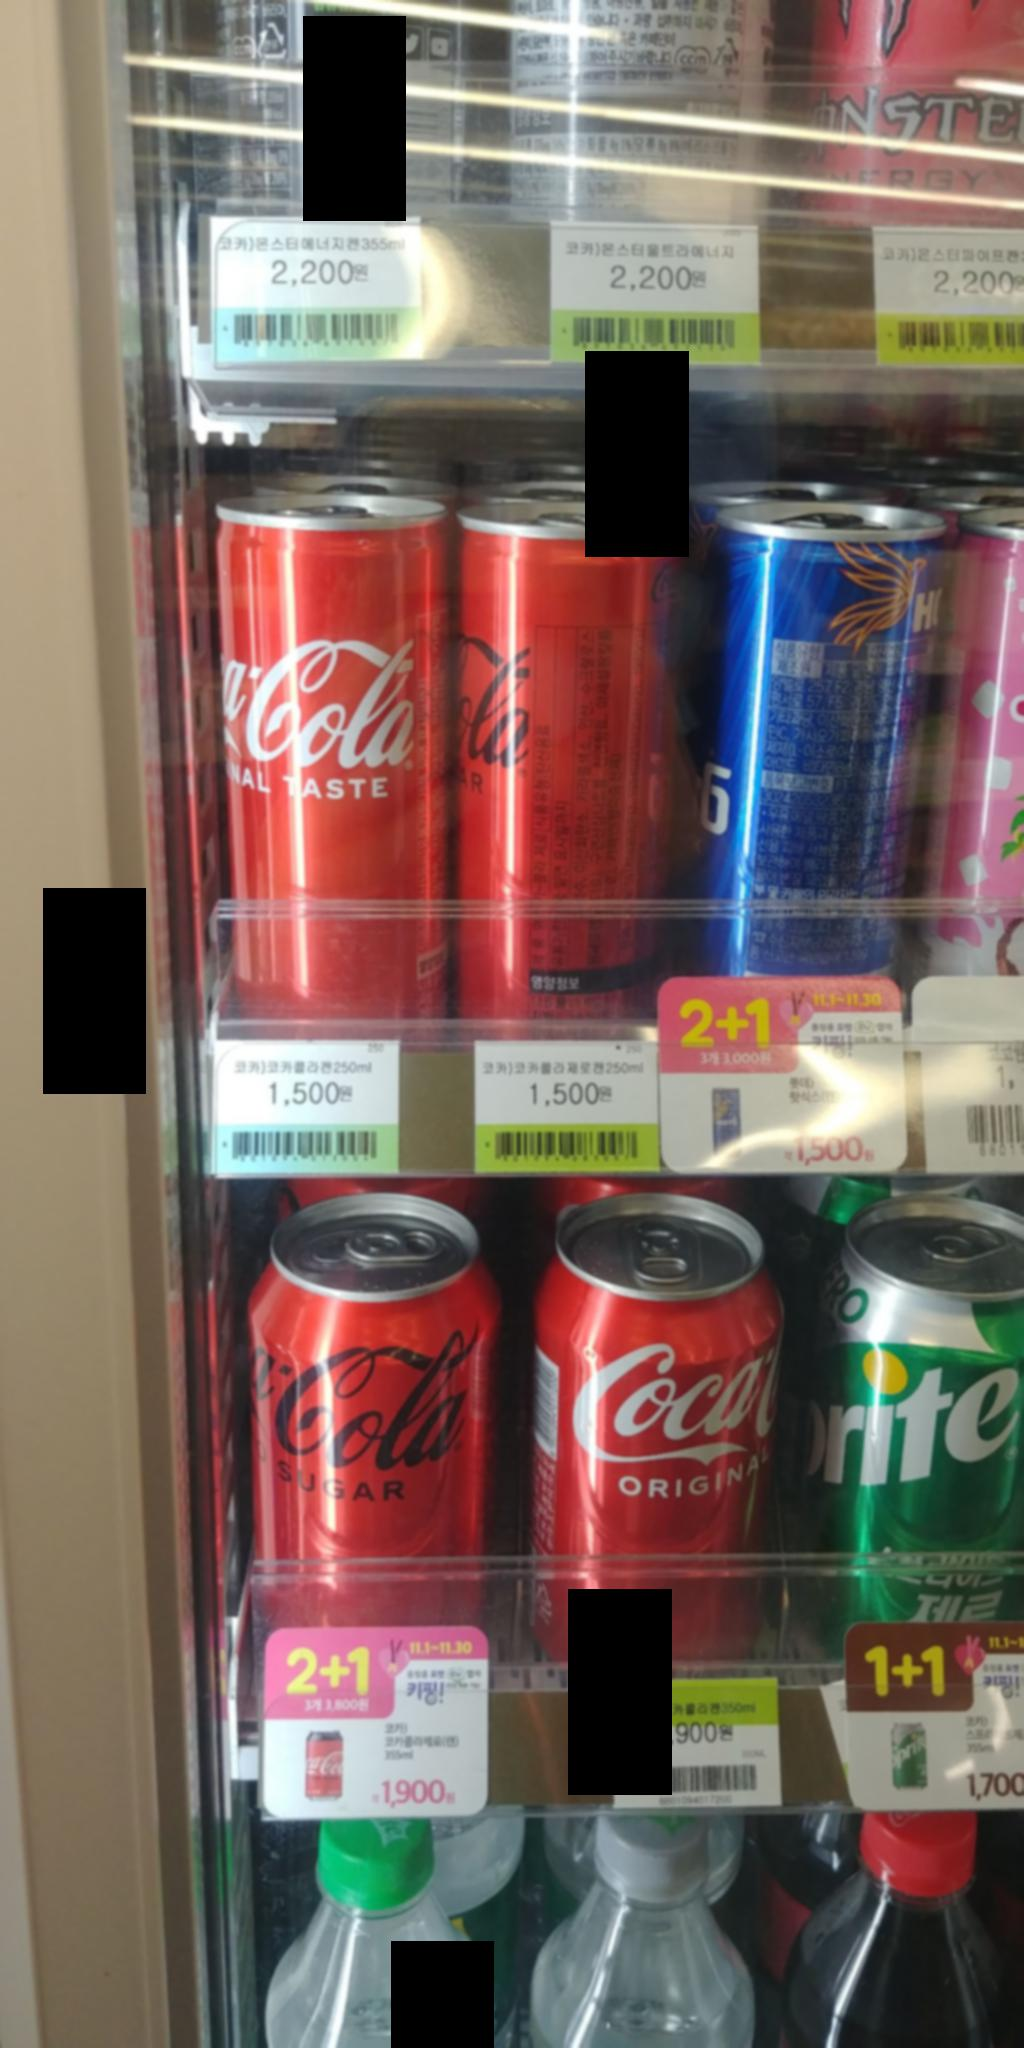cocacola: (549, 1202, 794, 1637)
sprite: (829, 1190, 1023, 1634)
